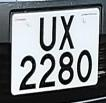0: (76, 46, 94, 85)
2: (17, 53, 38, 93), (37, 52, 57, 89)
8: (57, 50, 75, 86)
U: (37, 14, 58, 53)
X: (58, 12, 76, 52)
